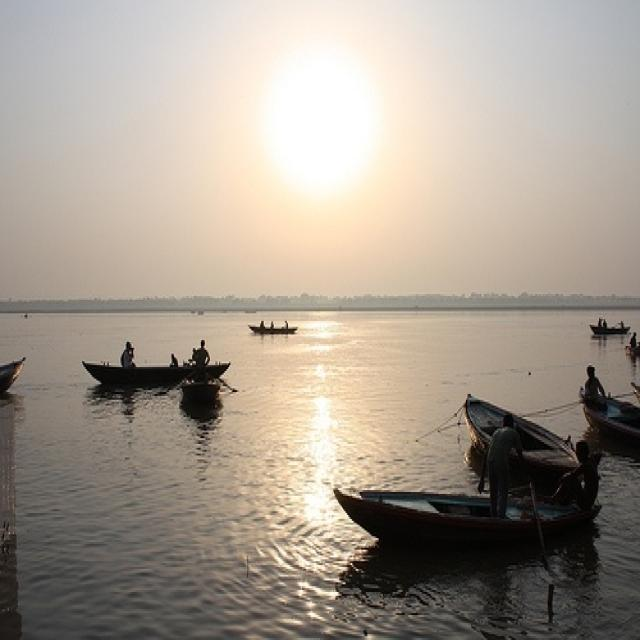boat: (328, 486, 602, 560), (452, 393, 584, 487), (74, 356, 234, 384), (240, 319, 318, 343), (174, 369, 228, 403), (588, 318, 636, 341)
